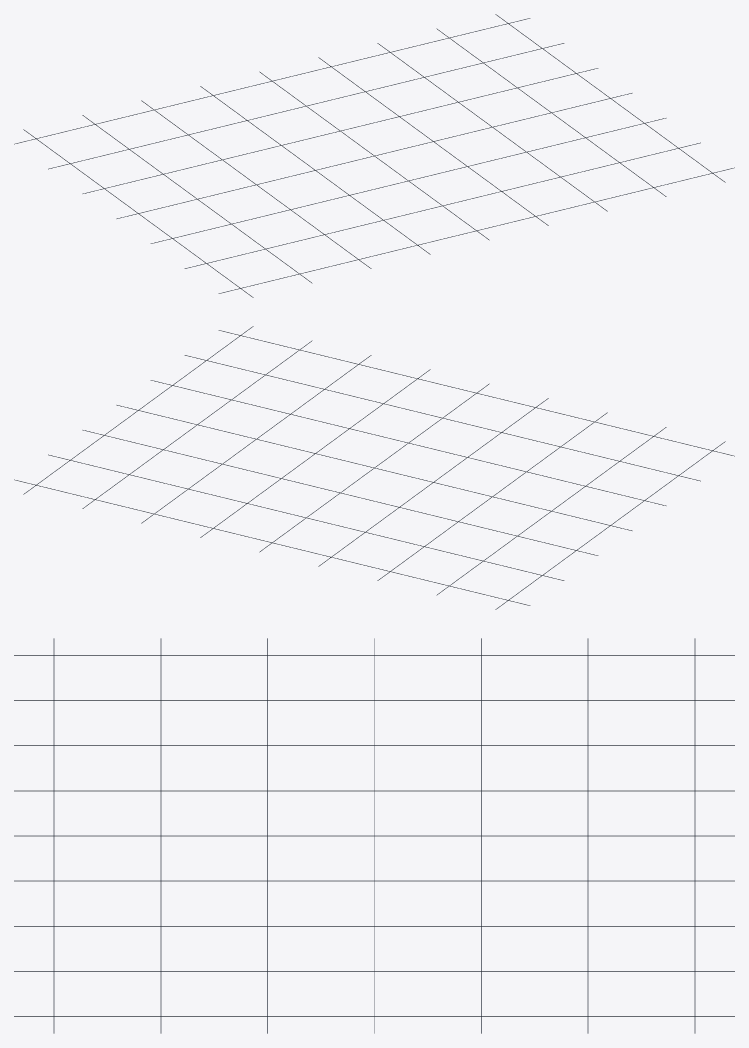
Rendered from 01_PS_Studio_FloorSeams.fbx.
The picture shows the model from 3 angles, top to bottom: view 1: azimuth 30°, elevation 25°; view 2: azimuth 150°, elevation 25°; view 3: azimuth 270°, elevation 25°; orthographic projection. The views are drawn at different scales.
Visible parts, largest first — view 1: PS_Studio_FloorSeams; view 2: PS_Studio_FloorSeams; view 3: PS_Studio_FloorSeams.
Boxes of the visible parts, box(x1,y1,x2,y2) form: PS_Studio_FloorSeams: box(14, 14, 734, 297); PS_Studio_FloorSeams: box(14, 326, 734, 609); PS_Studio_FloorSeams: box(14, 638, 734, 1033).
Size of the model in its own units: 1750 by 0.9 by 1350.
